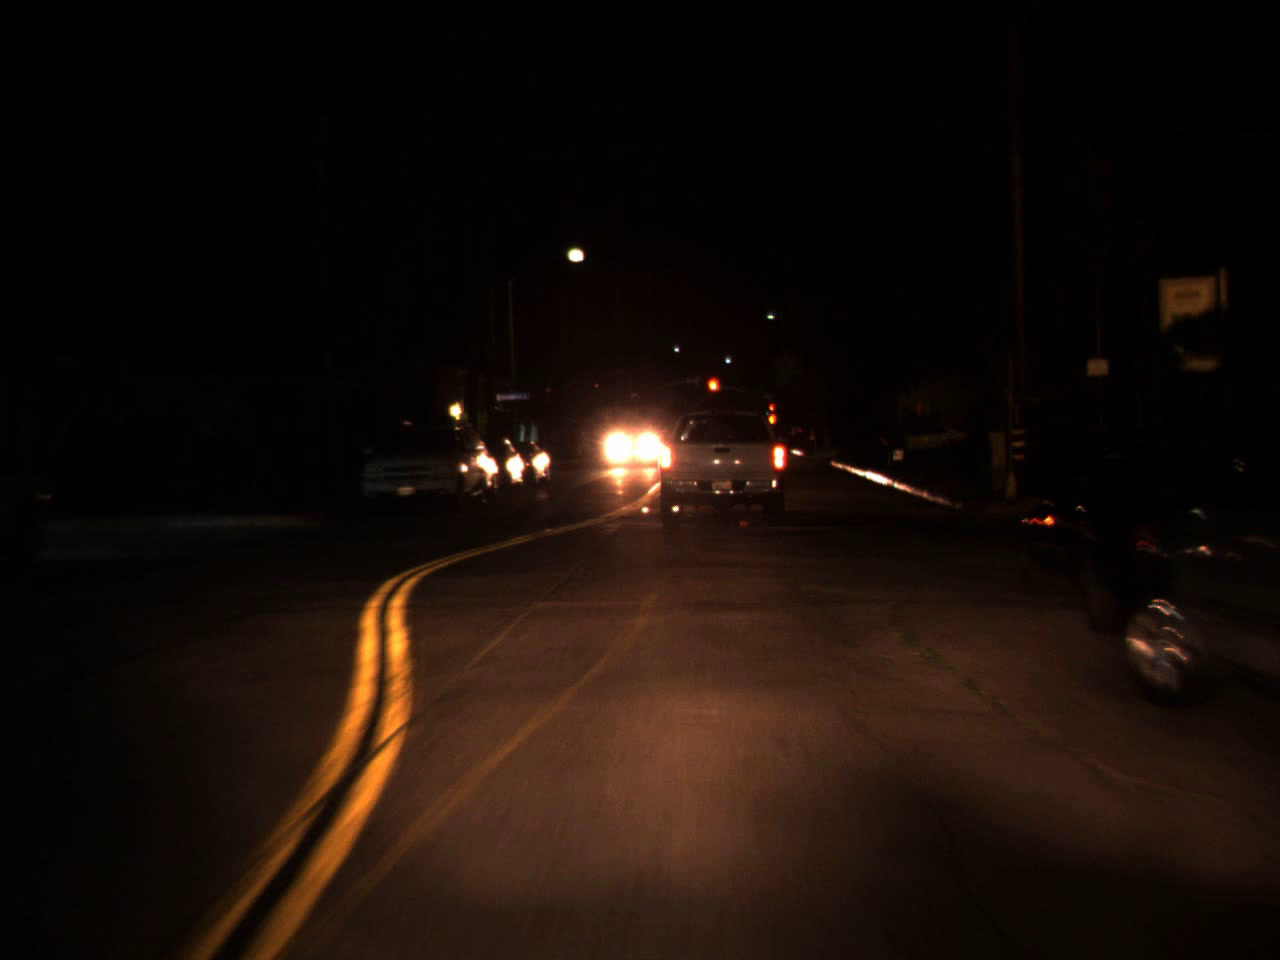stop: (706, 376, 721, 405), (769, 402, 775, 418)
